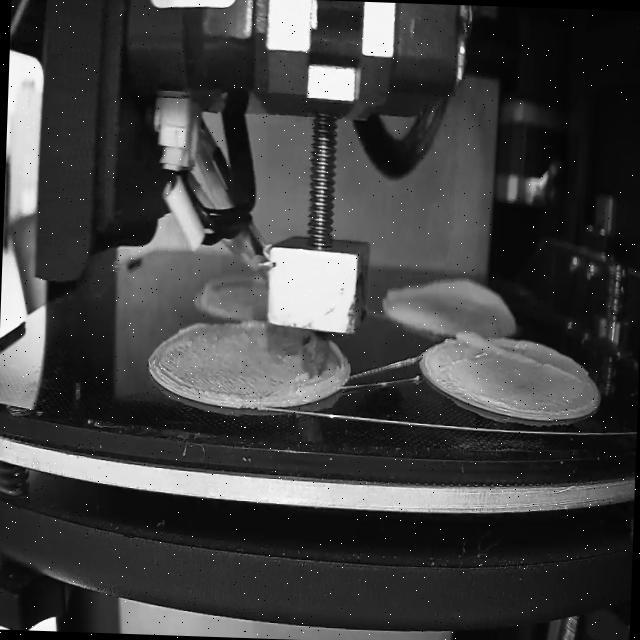over_extrusion: (452, 324, 580, 379), (383, 271, 514, 318), (295, 340, 351, 398), (198, 271, 264, 308), (174, 318, 219, 338)
